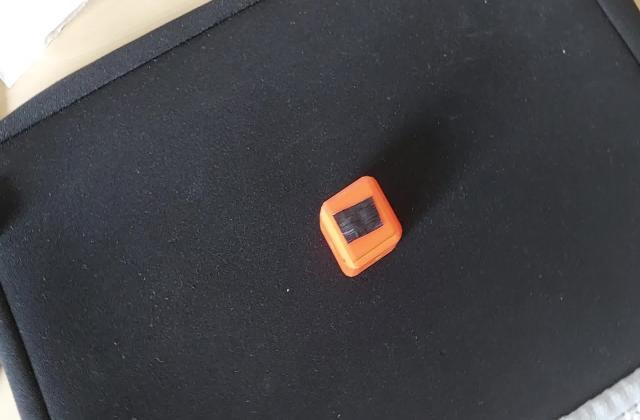black: (327, 196, 388, 246)
sticker: (316, 174, 406, 283)
